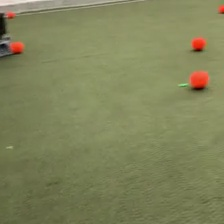ball: (188, 67, 210, 90), (191, 34, 206, 53), (10, 39, 24, 54), (6, 8, 14, 18), (218, 3, 224, 14)
